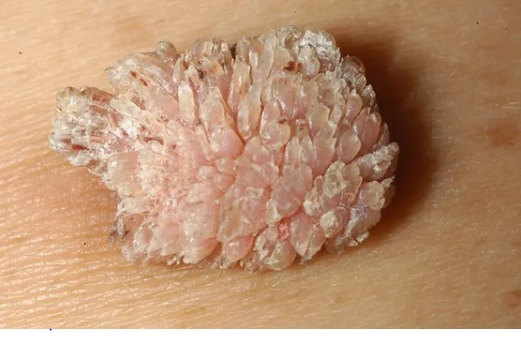Warts: (40, 8, 415, 284)
